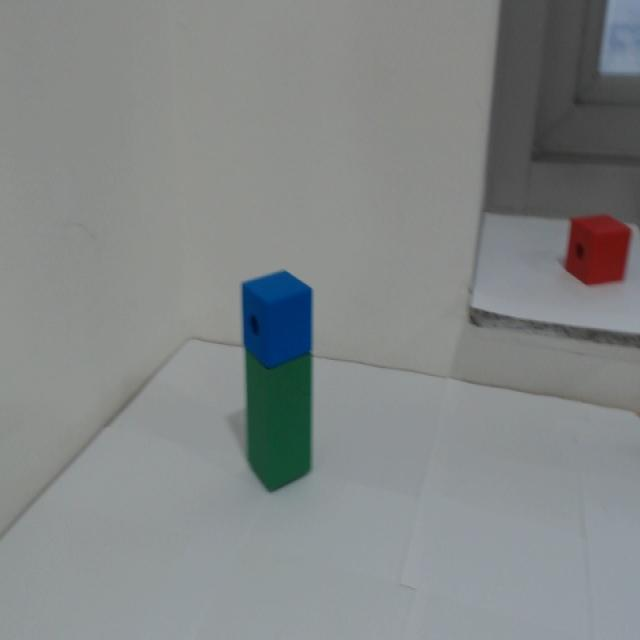cube: (235, 235, 319, 367)
